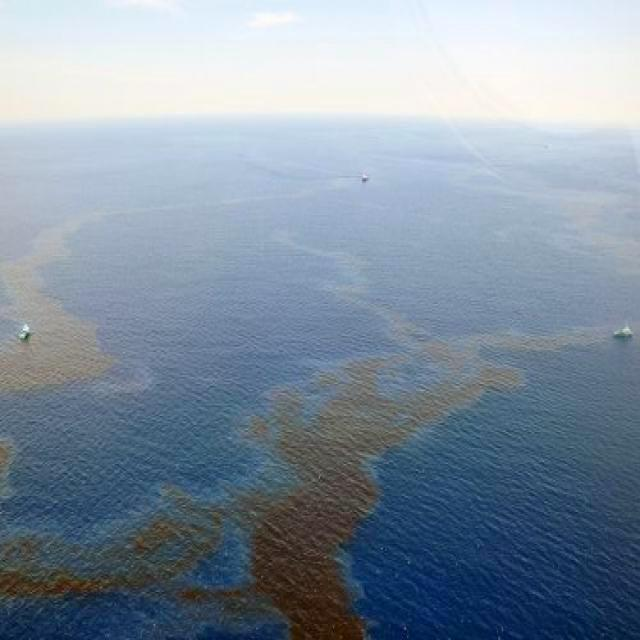oil: (203, 339, 545, 640)
